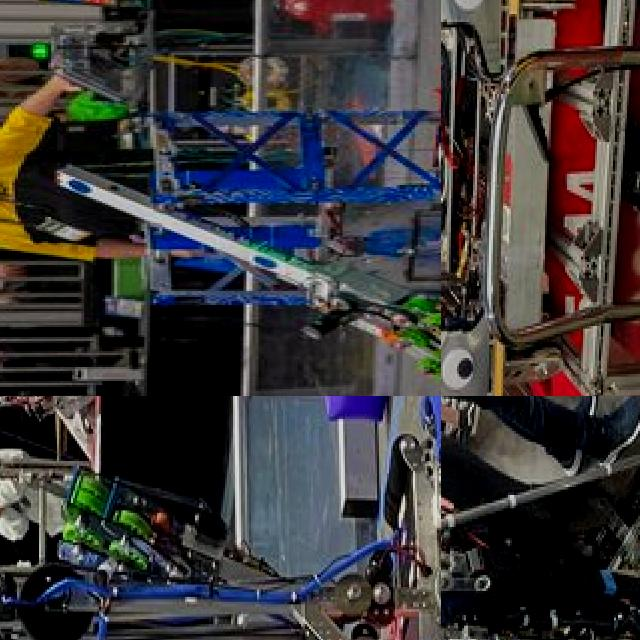FRC-Robots: (91, 20, 441, 384), (0, 396, 441, 640), (441, 396, 640, 640), (441, 0, 561, 396)
